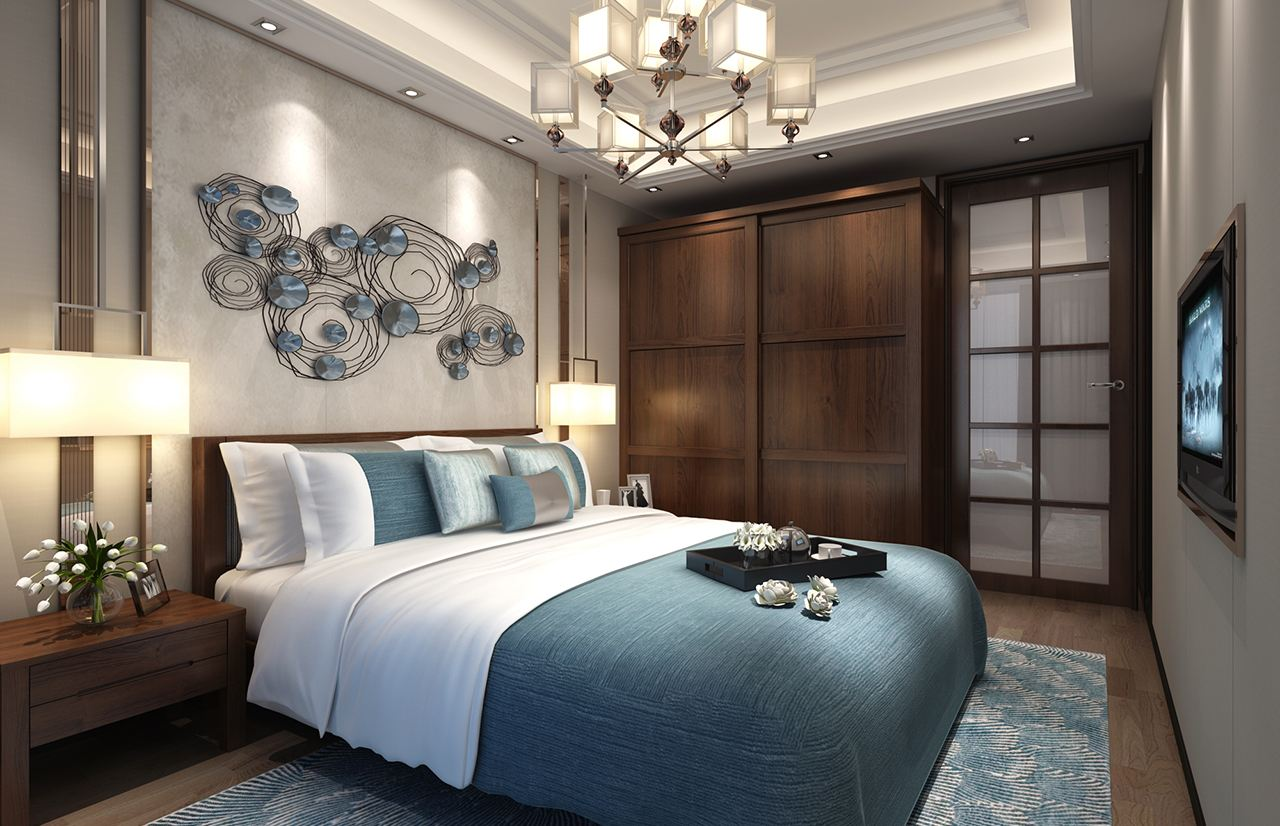床: (218, 506, 979, 807)
枕头: (220, 431, 589, 564)
灯: (0, 343, 190, 627), (525, 3, 814, 189), (545, 369, 621, 500), (249, 18, 285, 39), (1009, 129, 1041, 152), (394, 85, 422, 104), (496, 134, 522, 150), (807, 151, 827, 167)
